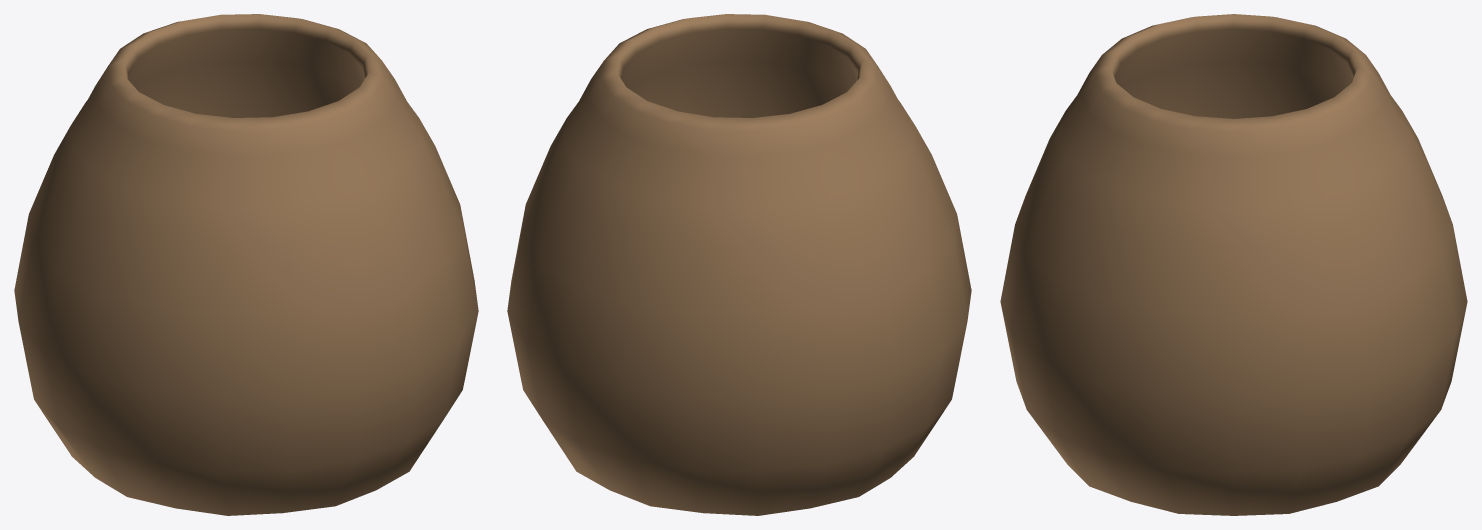
Rendered from Poterie7.fbx.
3 views of the same model, side by side, from view 1: azimuth 30°, elevation 25°; view 2: azimuth 150°, elevation 25°; view 3: azimuth 270°, elevation 25° (orthographic).
Parts seen in each view (by area): view 1: polySurface31; view 2: polySurface31; view 3: polySurface31.
Part boxes in pixels (x1,y1,x2,y2): polySurface31: [14, 14, 478, 515]; polySurface31: [507, 14, 971, 515]; polySurface31: [1000, 14, 1467, 515].
Size of the model in its own units: 0.3967 by 0.3704 by 0.3962.
